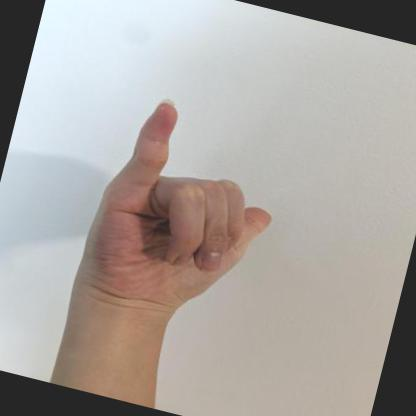Y: (71, 100, 271, 318)
